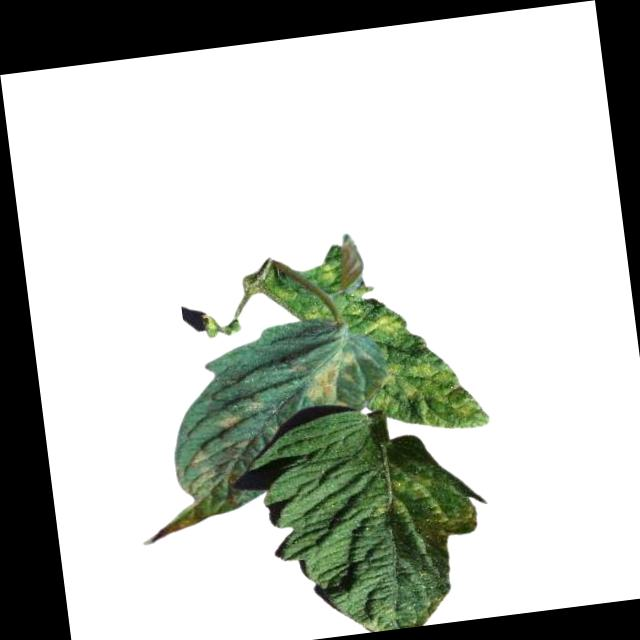Leaf_Mold: (151, 395, 290, 530), (382, 457, 485, 563), (376, 347, 491, 440), (297, 348, 362, 412), (364, 310, 404, 339)
